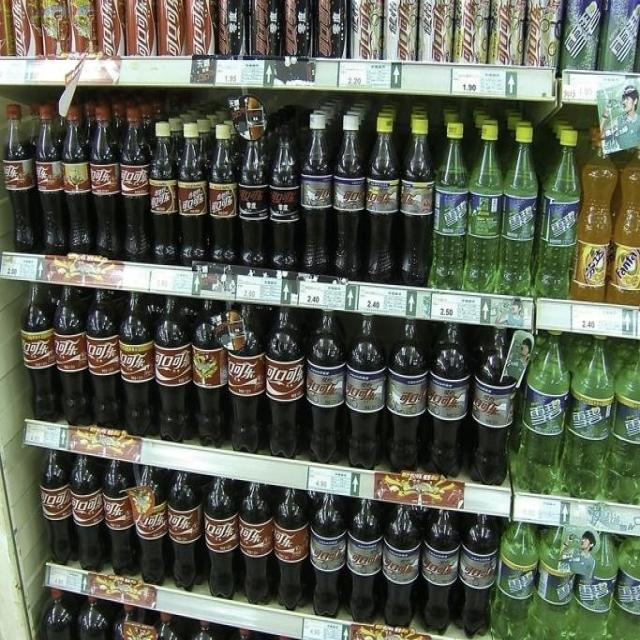Plastics: (0, 87, 640, 640)
can: (0, 0, 640, 72)
